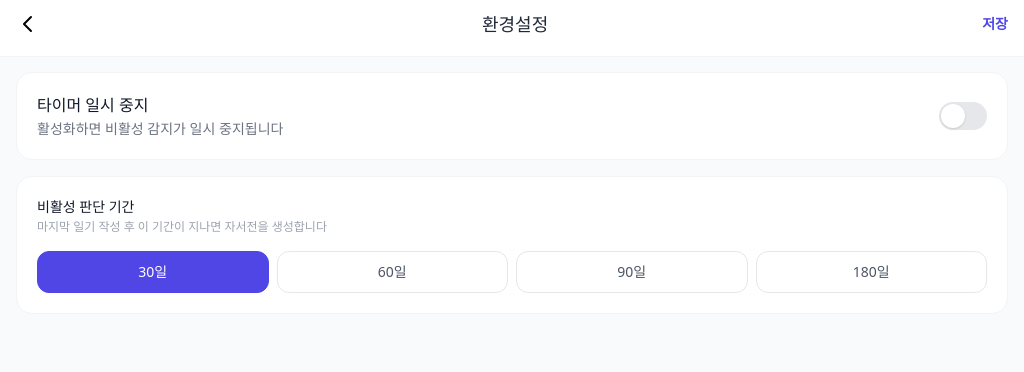
Test case: Settings Preferences Flow - Integration Test › Error state › should show error when PUT API fails on toggle change
This screenshot has width=1024, height=372.
Click the checkbox with test id "timer-pause-toggle" at (963, 116), box [939,102,987,130]
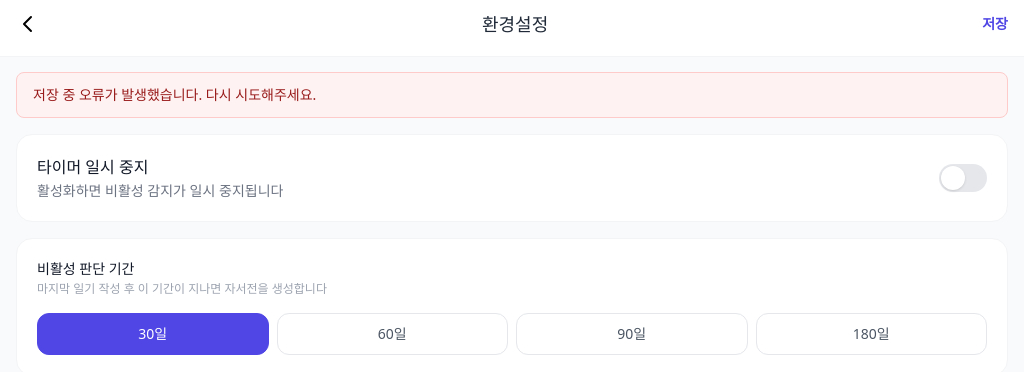
expect the text "저장 중 오류가 발생했습니다. 다시 시도해주세요." is shown: met, box [16,72,1008,118]
